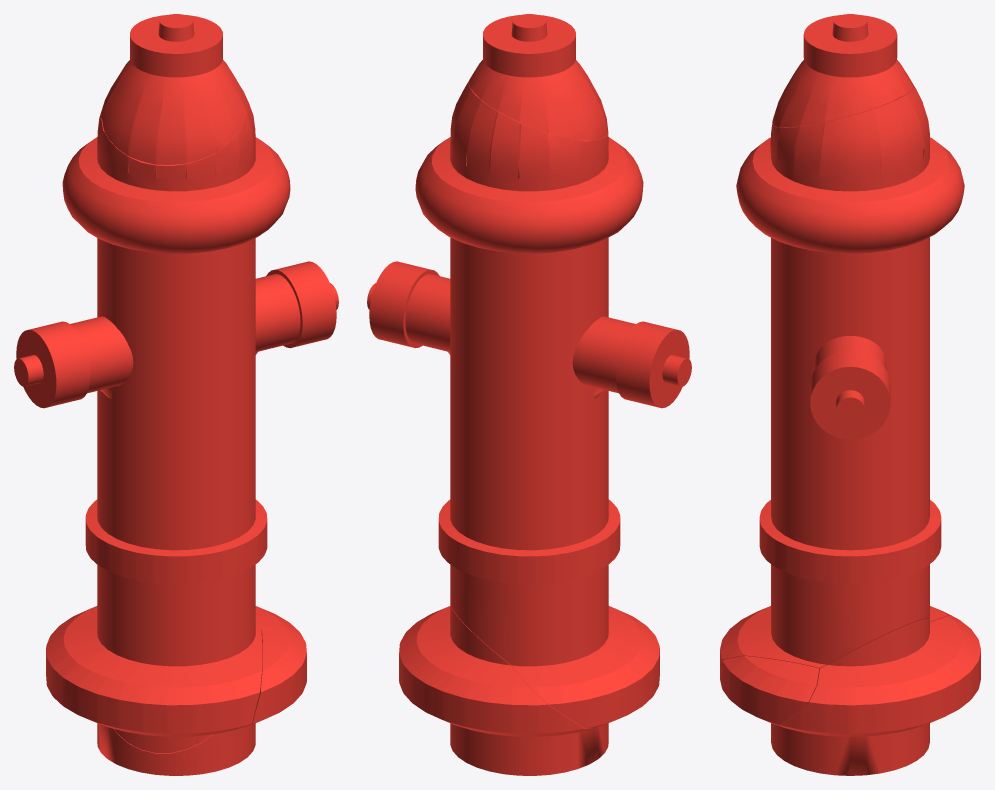
Rendered from FireHydrantShatter.fbx.
3 renders of one model, left to right at view 1: azimuth 30°, elevation 25°; view 2: azimuth 150°, elevation 25°; view 3: azimuth 270°, elevation 25°, orthographic.
Parts seen in each view (by area): view 1: FireHyrdrant_cell.005, FireHyrdrant_cell.004, FireHyrdrant_cell.003, FireHyrdrant_cell.002, FireHyrdrant_cell.001; view 2: FireHyrdrant_cell.005, FireHyrdrant_cell.002, FireHyrdrant_cell.003, FireHyrdrant_cell.004; view 3: FireHyrdrant_cell.005, FireHyrdrant_cell.002, FireHyrdrant_cell.004, FireHyrdrant_cell.003, FireHyrdrant_cell.001.
Boxes of the visible parts, bbox=[...] form: FireHyrdrant_cell.005: bbox=[46, 88, 290, 752]; FireHyrdrant_cell.004: bbox=[101, 14, 246, 164]; FireHyrdrant_cell.003: bbox=[14, 261, 338, 408]; FireHyrdrant_cell.002: bbox=[56, 606, 303, 775]; FireHyrdrant_cell.001: bbox=[249, 628, 306, 725]; FireHyrdrant_cell.005: bbox=[415, 79, 659, 728]; FireHyrdrant_cell.002: bbox=[399, 605, 608, 775]; FireHyrdrant_cell.003: bbox=[367, 261, 691, 408]; FireHyrdrant_cell.004: bbox=[469, 14, 607, 140]; FireHyrdrant_cell.005: bbox=[720, 86, 964, 682]; FireHyrdrant_cell.002: bbox=[771, 615, 980, 775]; FireHyrdrant_cell.004: bbox=[772, 14, 913, 127]; FireHyrdrant_cell.003: bbox=[810, 336, 890, 439]; FireHyrdrant_cell.001: bbox=[721, 656, 819, 724].
Bounding box in the file's own units: 142 × 316 × 104.
